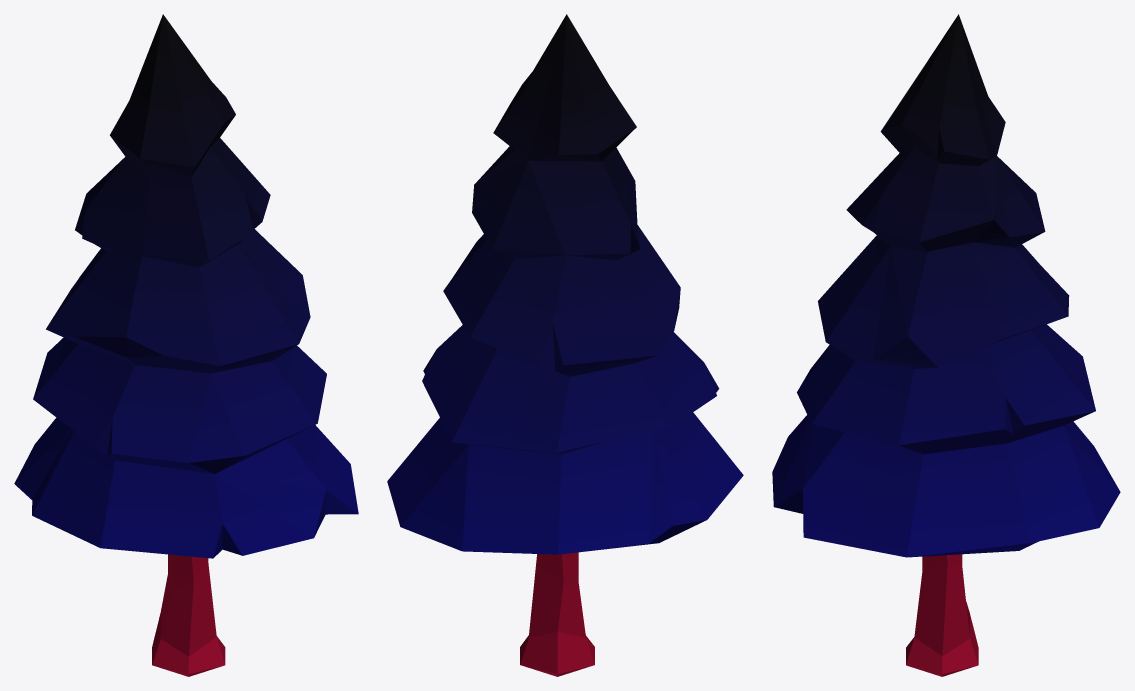
Rendered from tree5.fbx.
3 renders of one model, left to right at view 1: azimuth 30°, elevation 25°; view 2: azimuth 150°, elevation 25°; view 3: azimuth 270°, elevation 25°, orthographic. The views are drawn at different scales.
Parts seen in each view (by area): view 1: SM_Prop_Tree_Pine_02; view 2: SM_Prop_Tree_Pine_02; view 3: SM_Prop_Tree_Pine_02.
Boxes of the visible parts, left/top/right/bottom form: SM_Prop_Tree_Pine_02: left=14, top=14, right=358, bottom=676; SM_Prop_Tree_Pine_02: left=387, top=14, right=743, bottom=676; SM_Prop_Tree_Pine_02: left=772, top=14, right=1120, bottom=676.
Size of the model in its own units: 139 by 297 by 143.
